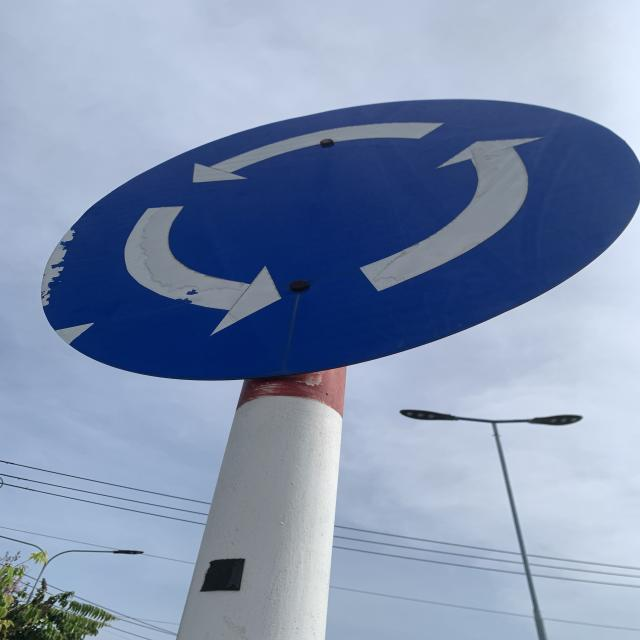Xe_Bus: (39, 97, 640, 381)
